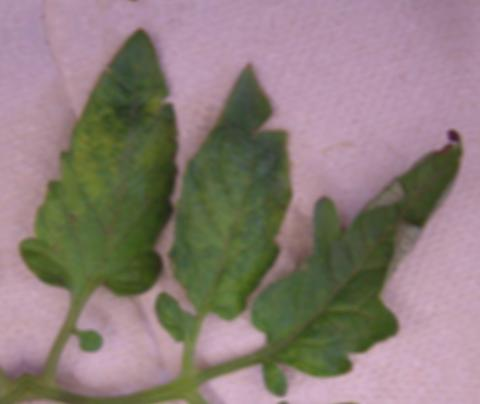Tomato leaf mosaic virus: (230, 125, 480, 389), (0, 18, 209, 324), (146, 59, 306, 319)
